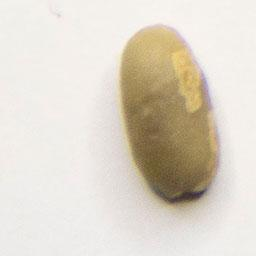longberry: (116, 20, 225, 204)
